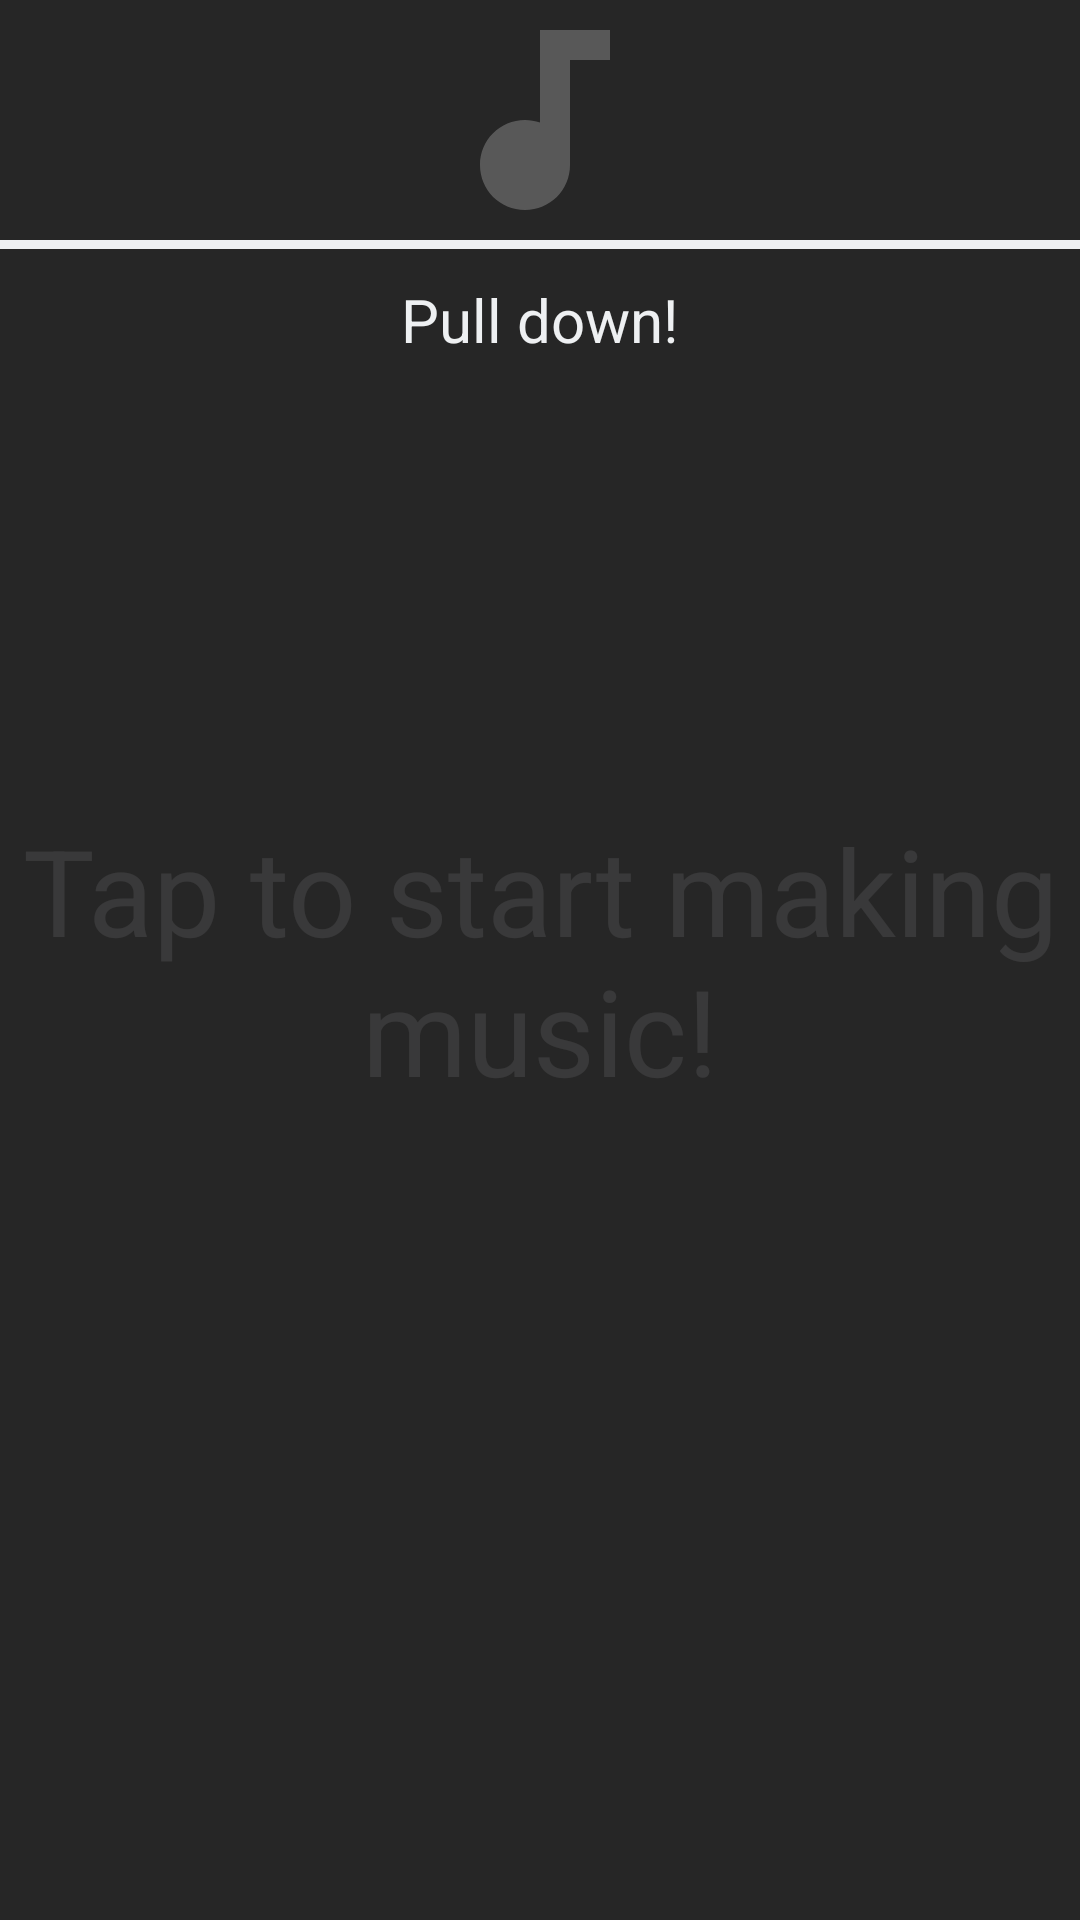

Icons on this 1080 x 1920 Android screen, each with the point to tap as point (x, y):
music note: point (545, 120)
